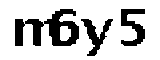5: (118, 2, 150, 52)
6: (48, 4, 82, 48)
m: (7, 17, 59, 52)
y: (81, 16, 114, 60)
